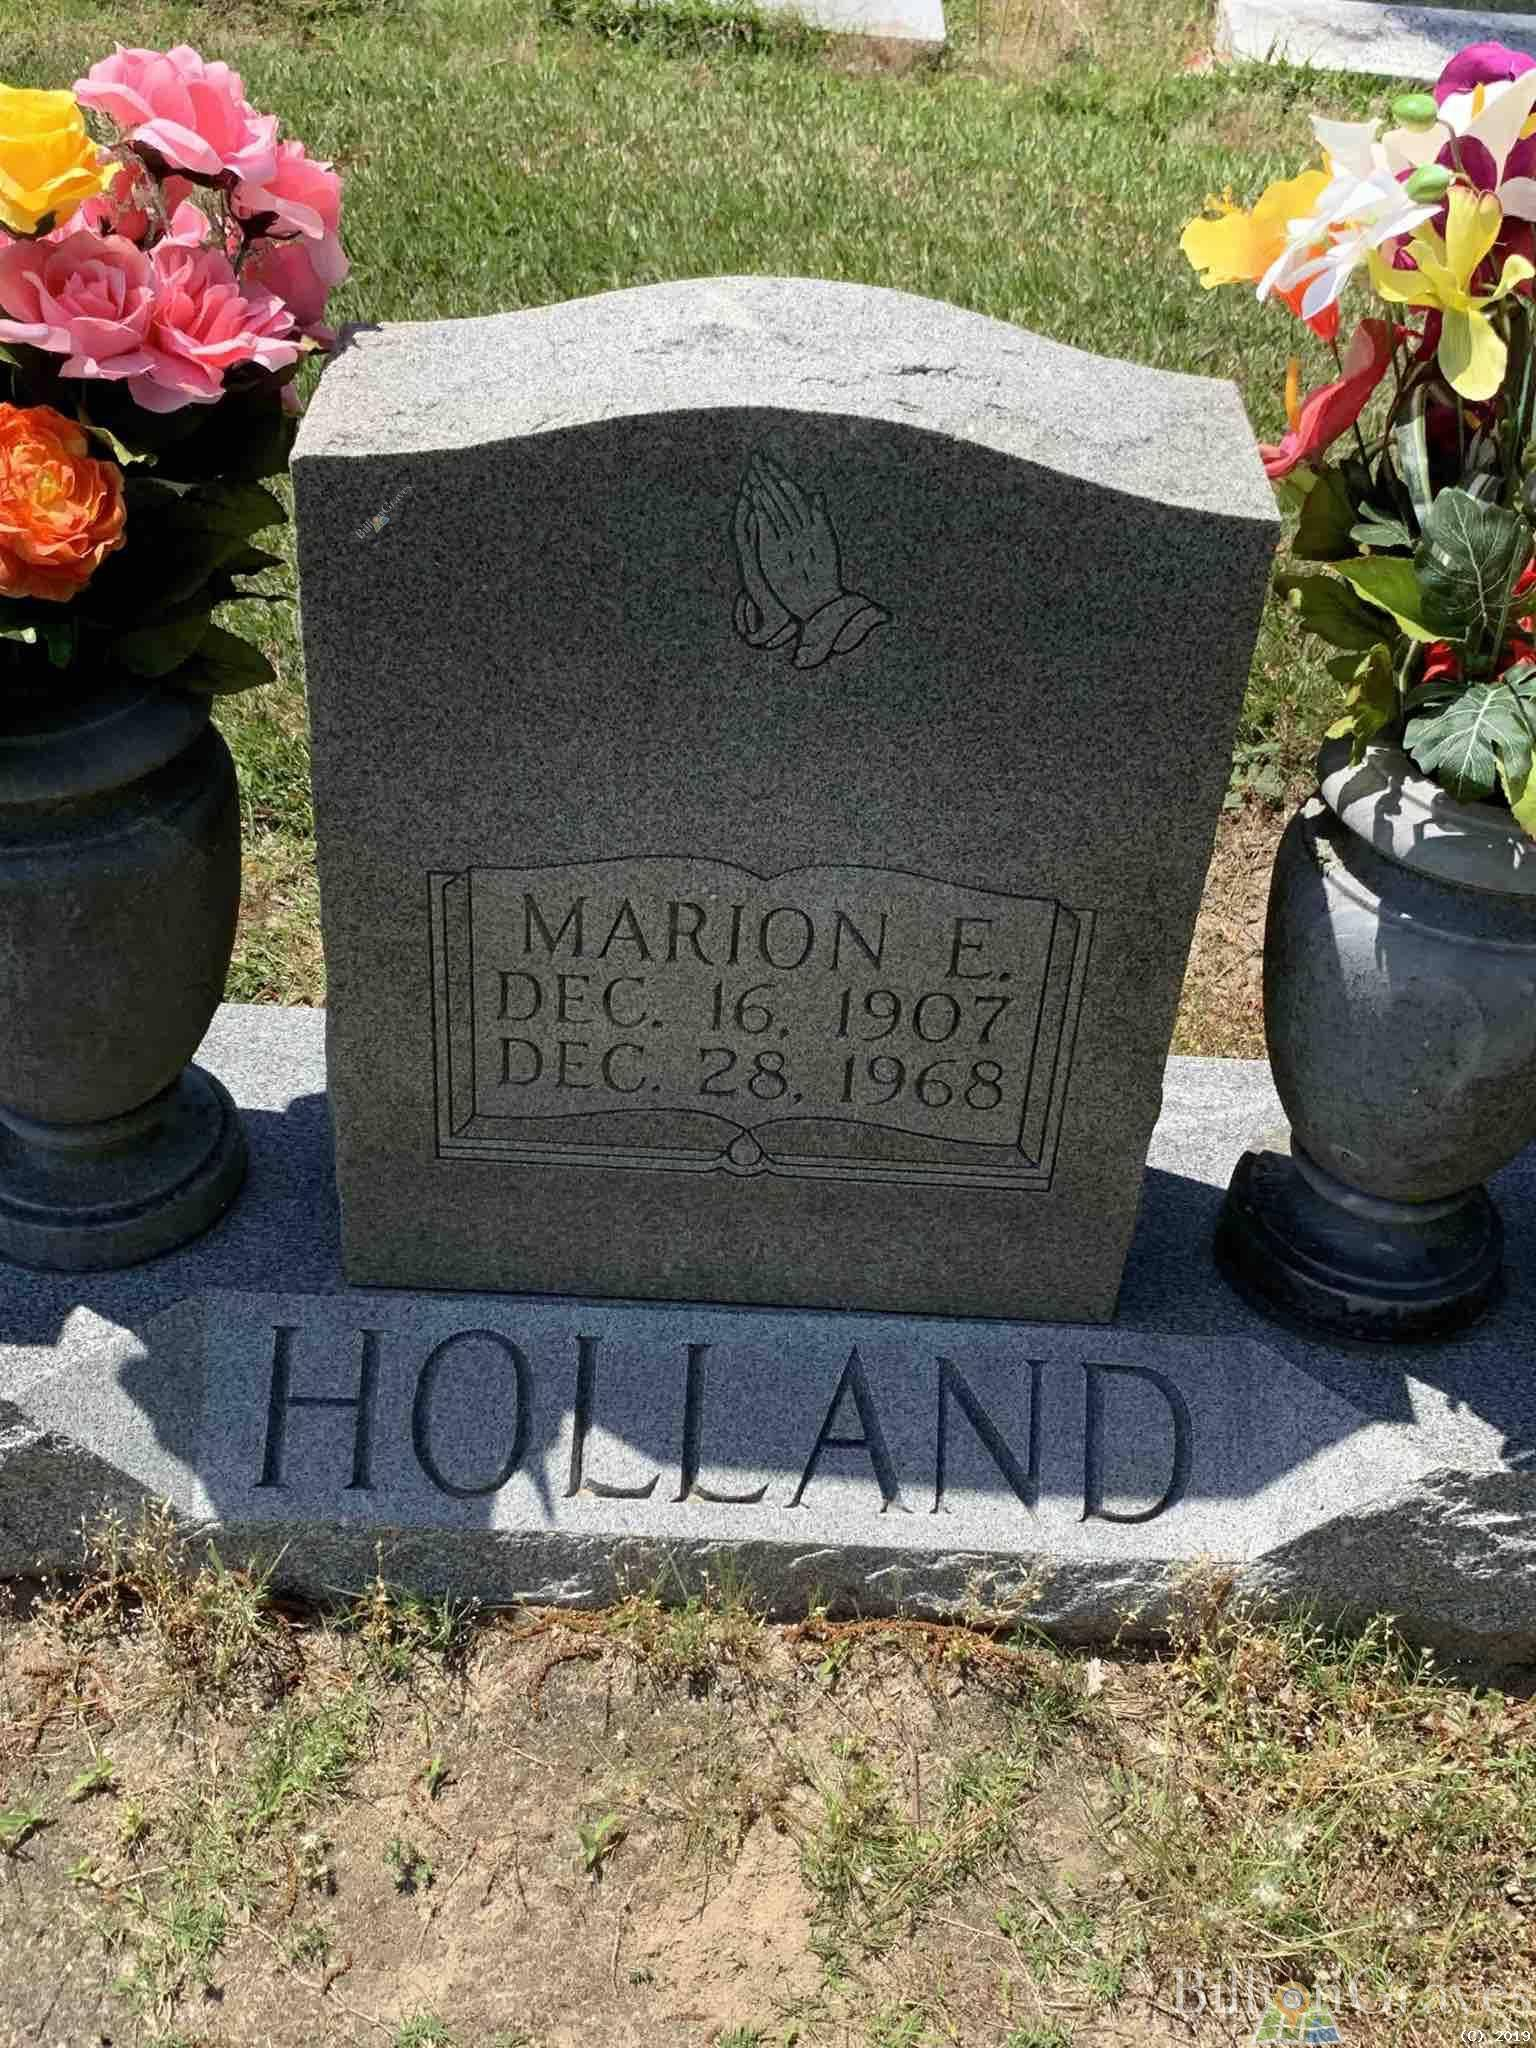upright: (0, 266, 1536, 1653)
